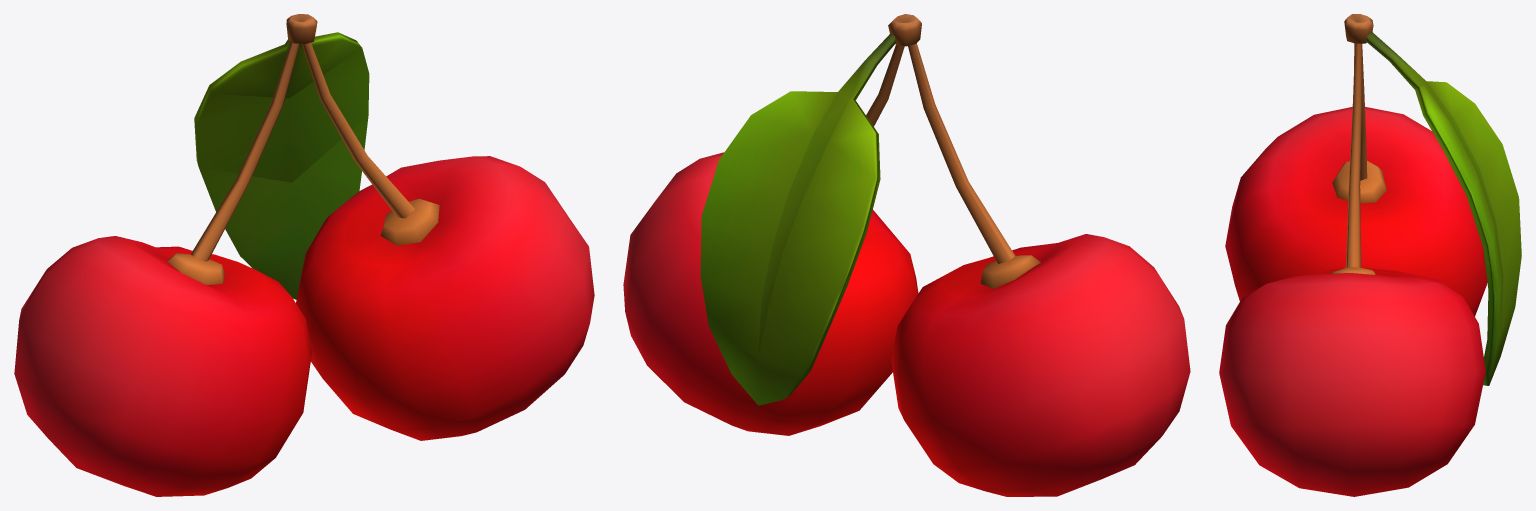
The model's file is cherry.fbx.
3 views of the same model, side by side, from view 1: azimuth 30°, elevation 25°; view 2: azimuth 150°, elevation 25°; view 3: azimuth 270°, elevation 25° (orthographic). The views are drawn at different scales.
Parts seen in each view (by area): view 1: сherry; view 2: сherry; view 3: сherry.
Part boxes in pixels (x1=…): сherry: x1=14, y1=14, x2=594, y2=496; сherry: x1=623, y1=14, x2=1190, y2=496; сherry: x1=1219, y1=14, x2=1521, y2=496.
Size of the model in its own units: 6.83 by 5.34 by 3.59.
